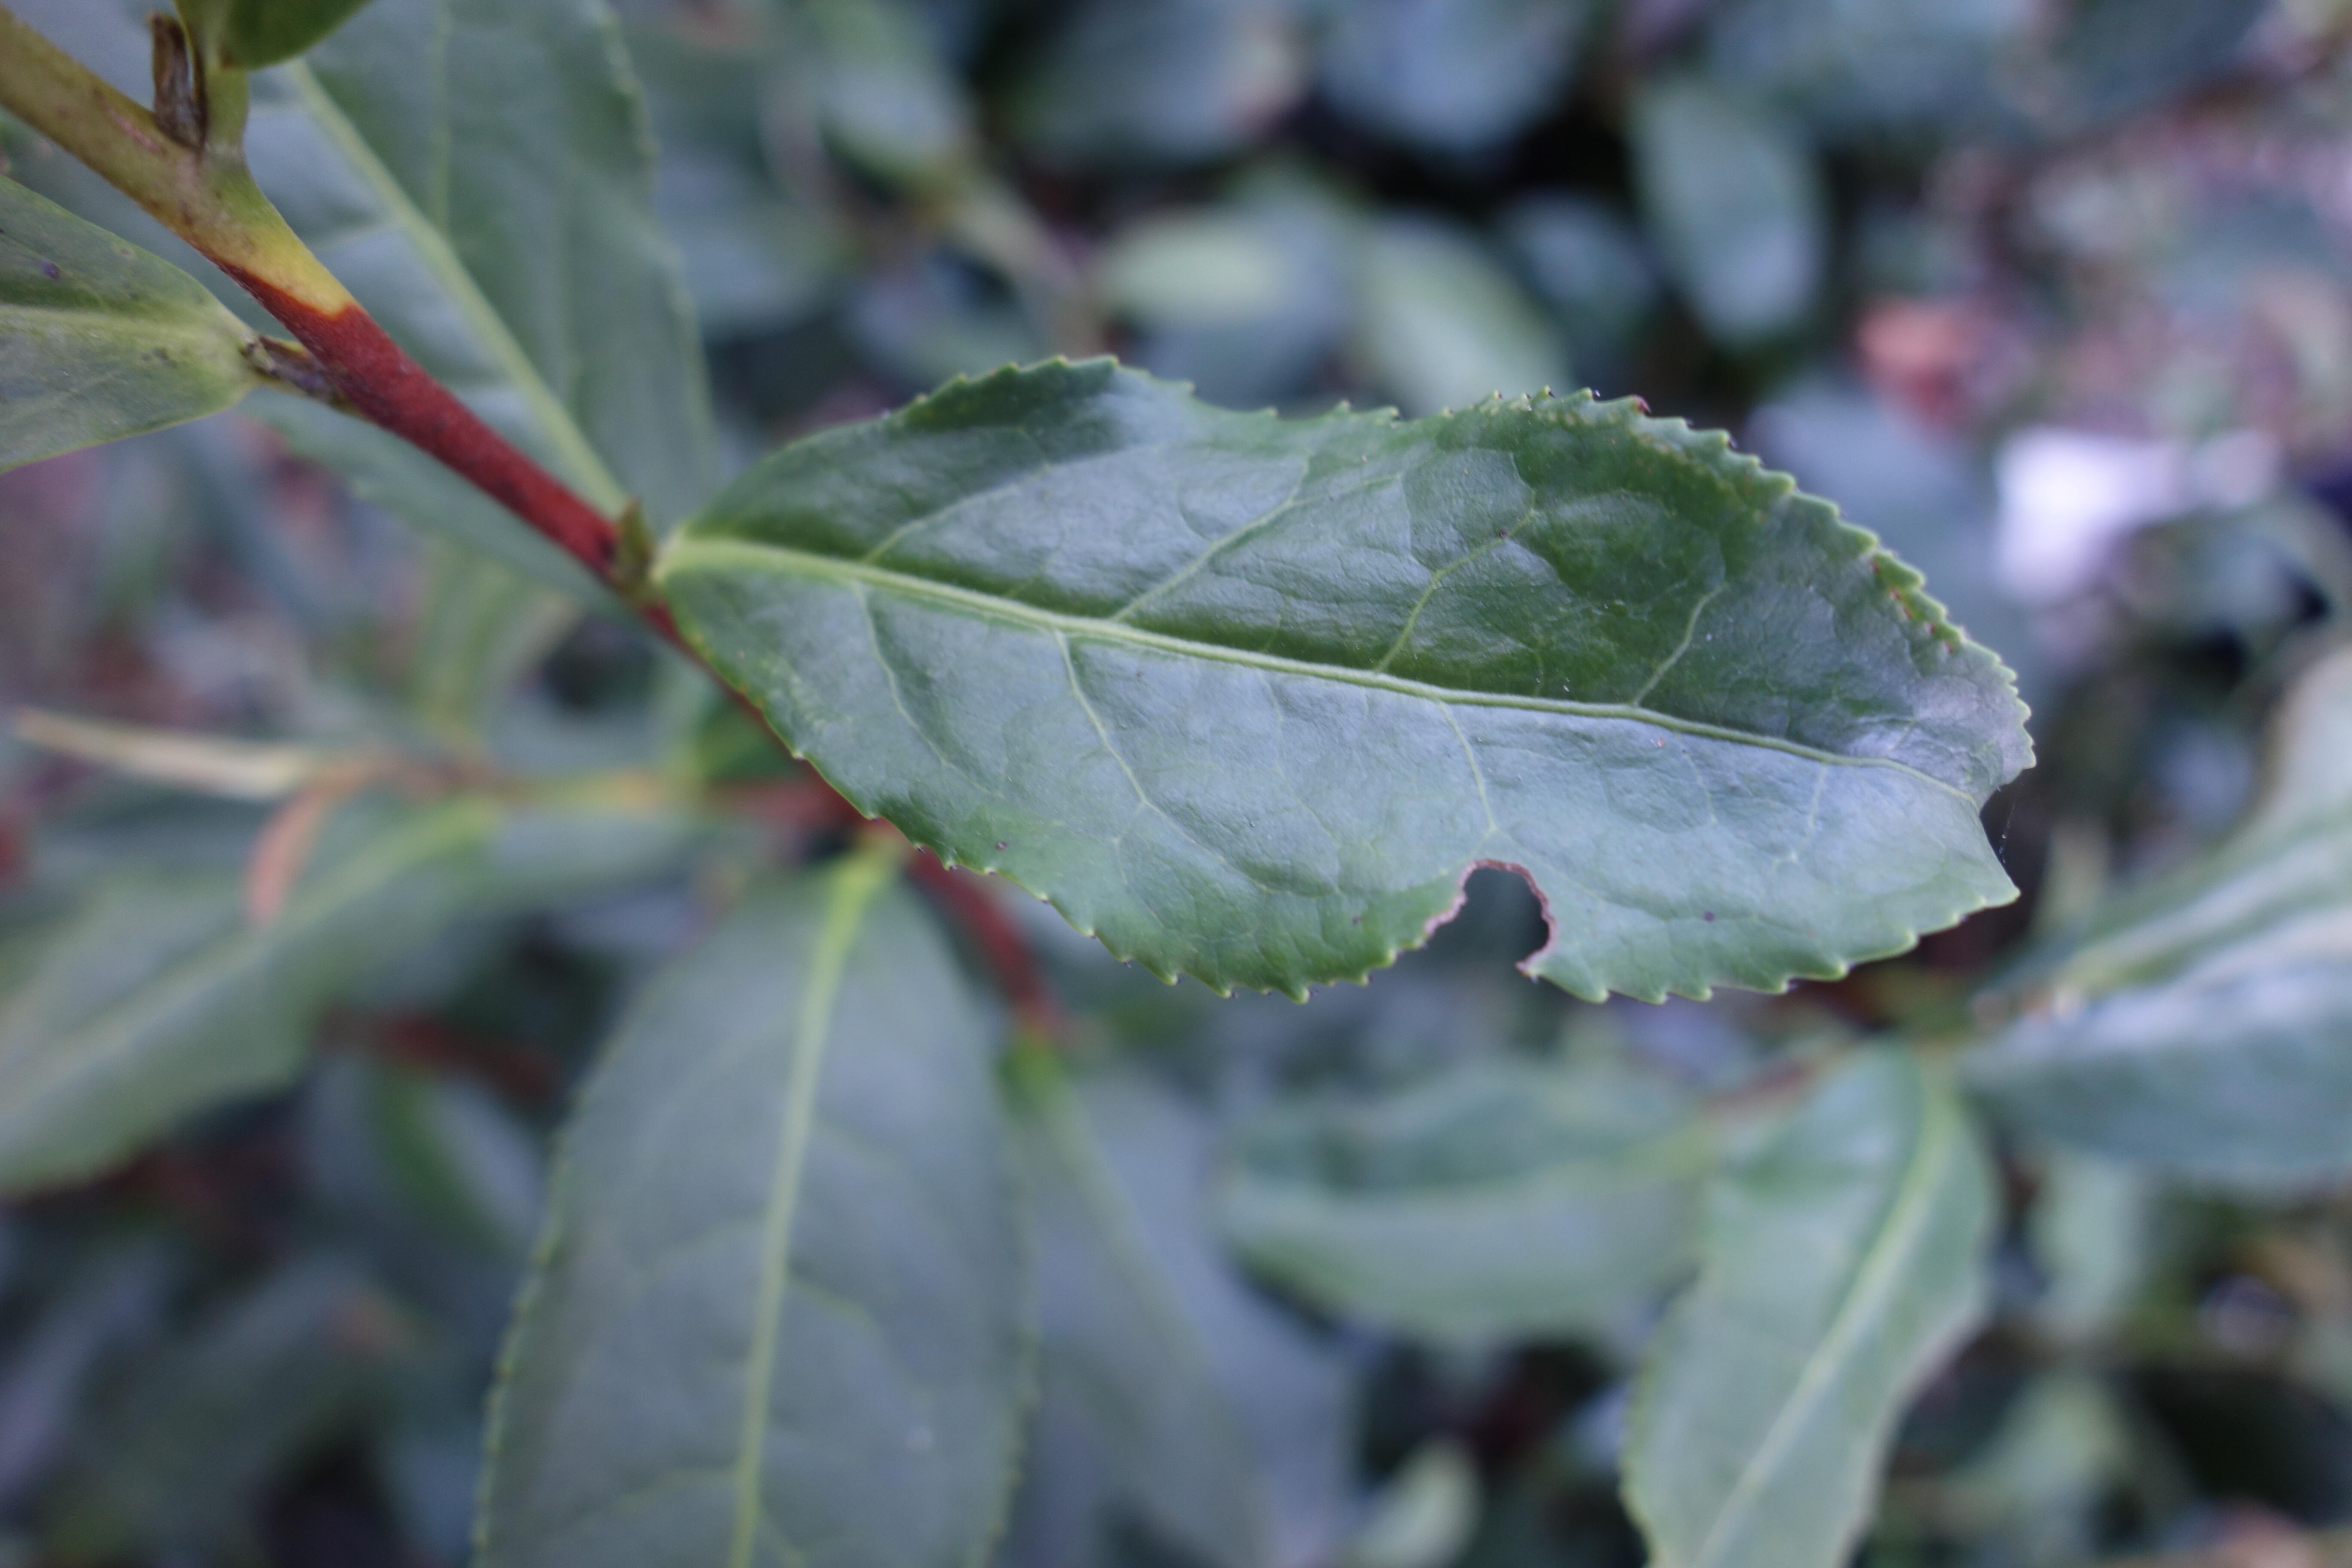chihuo_low: (646, 348, 2044, 1003)
